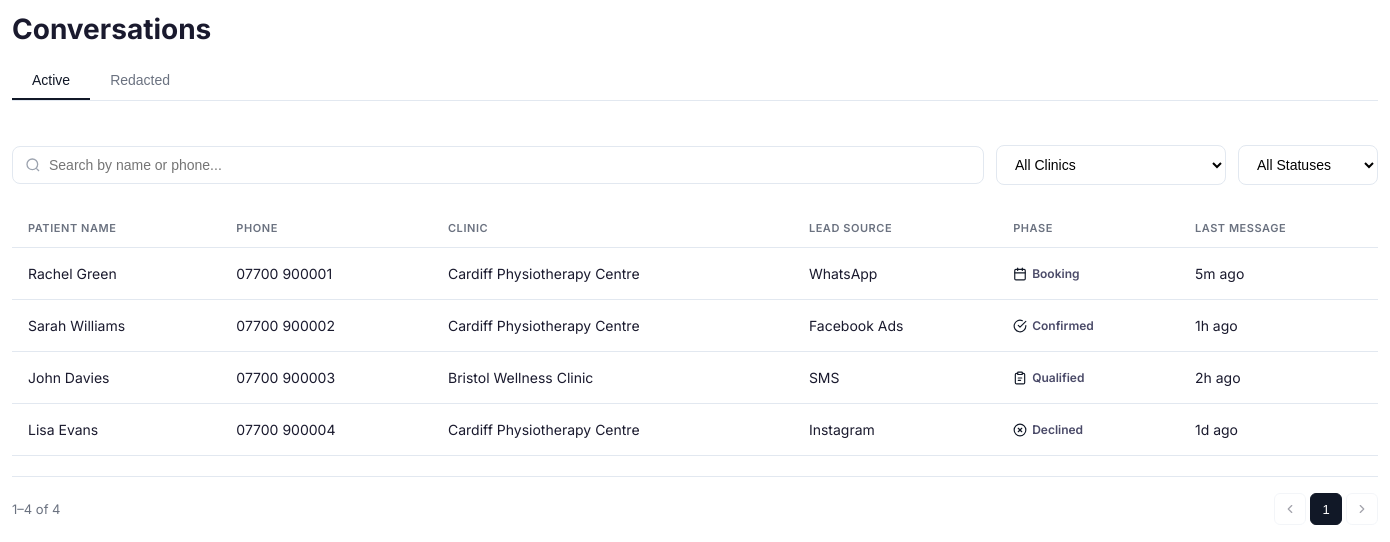
Scenario: ConversationList › filters by phase
The width and height of the screenshot is (1390, 542).
Expected: the text "Rachel Green" is shown, [28,265,117,282]
Step 1. Select "Confirmed" in the dropdown named "Filter by lead status" → (1308, 165), box [1238,145,1378,185]
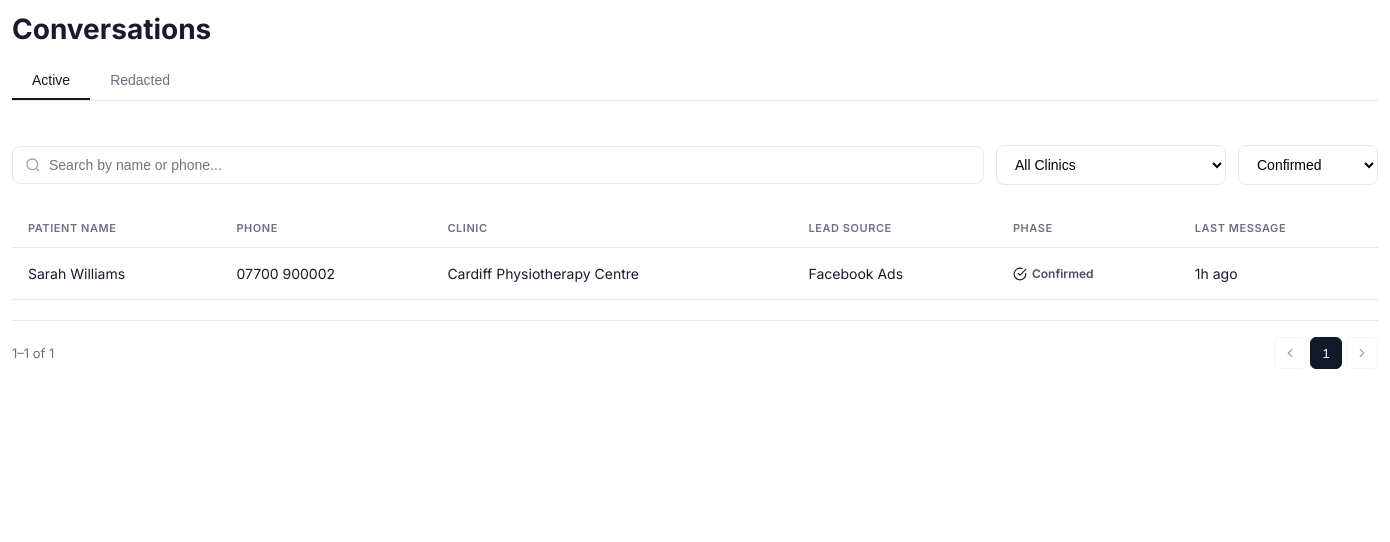
Expected: the text "Sarah Williams" is shown, [28,265,125,282]
Expected: the text "Rachel Green" is gone
